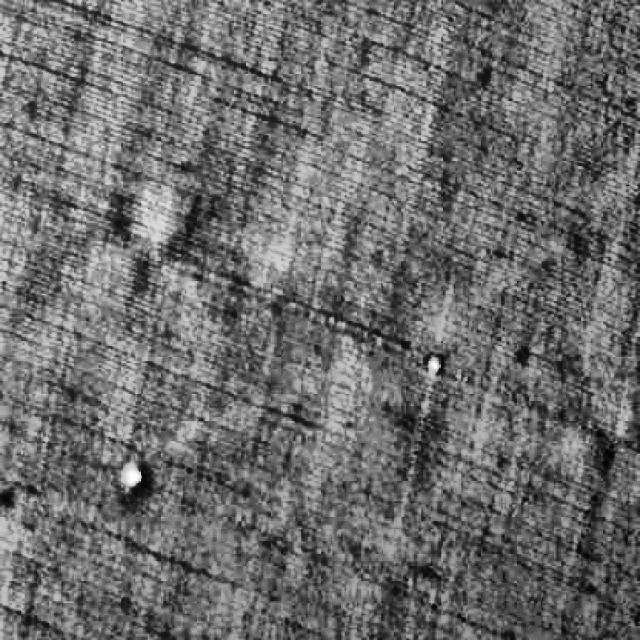hole: (116, 452, 152, 498), (421, 345, 449, 380)
